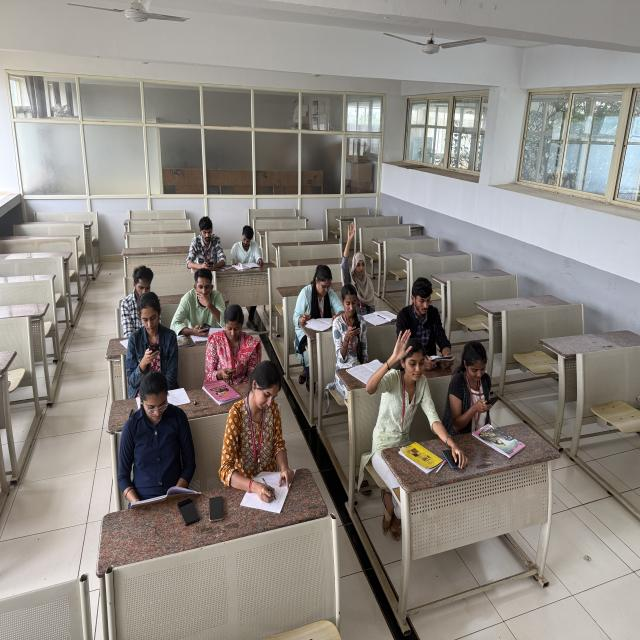Hand Rising: (365, 326, 437, 459), (340, 219, 374, 295)
Reading: (109, 369, 200, 536), (395, 272, 456, 374), (291, 261, 341, 339), (228, 224, 267, 276)
Using Phone: (442, 337, 506, 442), (122, 291, 182, 386), (202, 302, 258, 393), (168, 263, 224, 349), (325, 283, 375, 376), (187, 216, 227, 275)
Writing: (212, 357, 299, 517)
